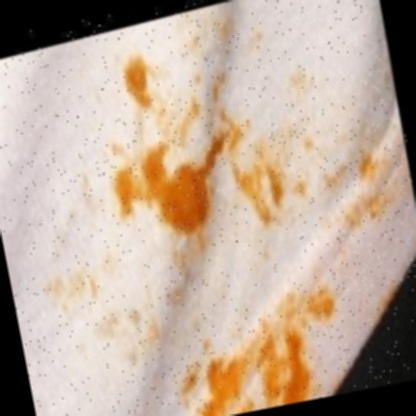kimchi: (290, 150, 399, 241), (140, 137, 241, 234), (151, 225, 220, 321), (235, 147, 299, 233), (239, 292, 331, 350), (177, 9, 255, 75), (273, 75, 323, 171), (153, 80, 212, 144), (195, 355, 251, 416), (103, 160, 155, 223), (108, 54, 156, 113), (273, 342, 316, 405), (50, 275, 104, 319), (115, 315, 164, 360), (249, 349, 279, 410), (203, 67, 230, 105)
